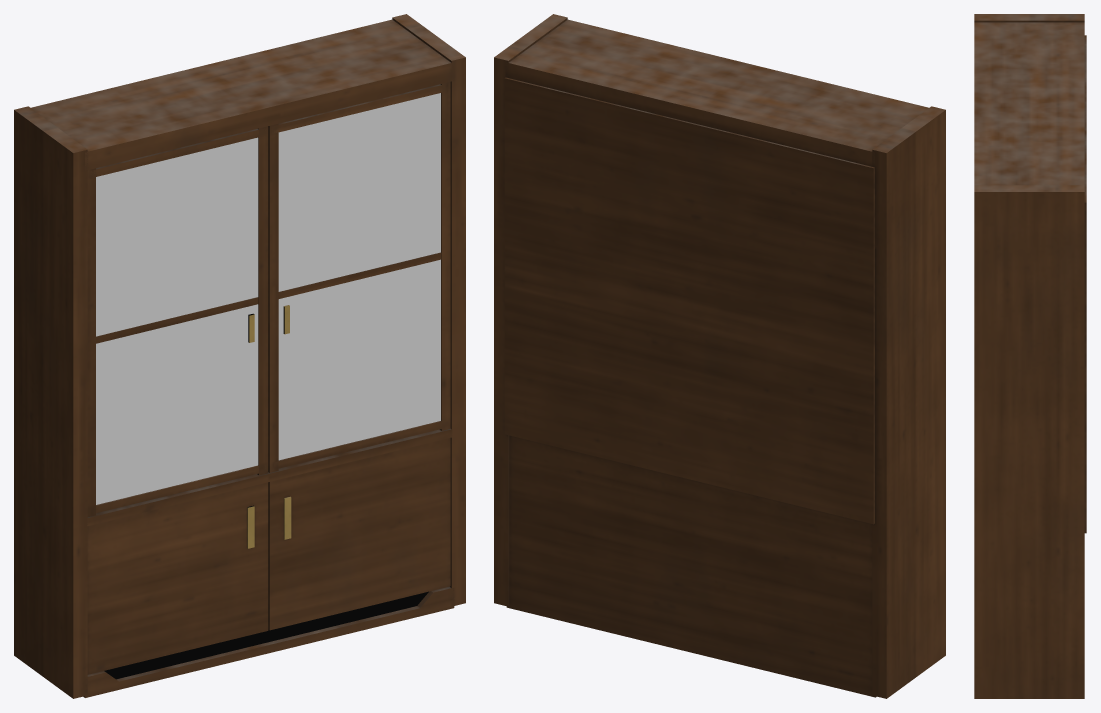
Rendered from H_Bookcase_Hutch.fbx.
3 renders of one model, left to right at view 1: azimuth 30°, elevation 25°; view 2: azimuth 150°, elevation 25°; view 3: azimuth 270°, elevation 25°, orthographic. The views are drawn at different scales.
Parts seen in each view (by area): view 1: H_Bookcase_Hutch__H_Bookcase_Hutch, H_Bookcase_Hutch__H_Bookcase_Hutch_Glass; view 2: H_Bookcase_Hutch__H_Bookcase_Hutch; view 3: H_Bookcase_Hutch__H_Bookcase_Hutch.
Part boxes in pixels (x1,y1,x2,y2): H_Bookcase_Hutch__H_Bookcase_Hutch: (14,14,465,698); H_Bookcase_Hutch__H_Bookcase_Hutch_Glass: (96,93,440,504); H_Bookcase_Hutch__H_Bookcase_Hutch: (494,14,945,698); H_Bookcase_Hutch__H_Bookcase_Hutch: (974,14,1086,698).
Bounding box in the file's own units: 600 × 800 × 160.
2 materials, 1 textured.
